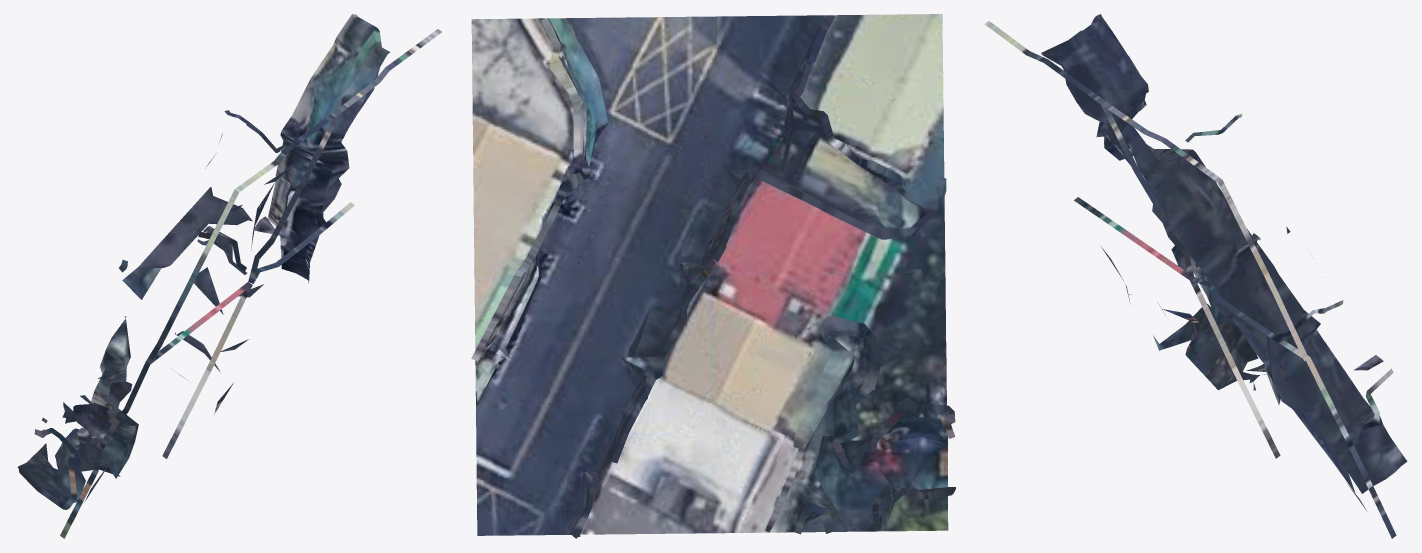
3 views of the same model, side by side, from view 1: azimuth 30°, elevation 25°; view 2: azimuth 150°, elevation 25°; view 3: azimuth 270°, elevation 25° (orthographic). The views are drawn at different scales.
Bounding box in the file's own units: 40.54 × 37.16 × 33.05.
Materials: 1 (1 with a texture image).
